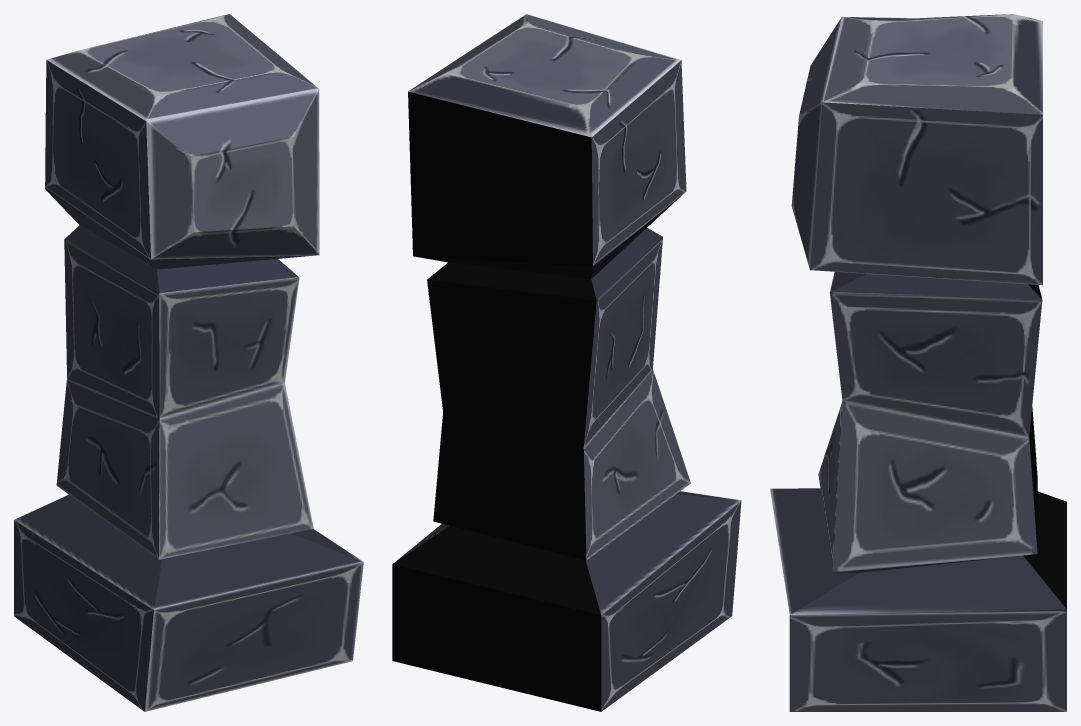
The model's file is pilaar.FBX.
3 views of the same model, side by side, from view 1: azimuth 30°, elevation 25°; view 2: azimuth 150°, elevation 25°; view 3: azimuth 270°, elevation 25° (orthographic). The views are drawn at different scales.
Parts seen in each view (by area): view 1: Box070; view 2: Box070; view 3: Box070.
Boxes of the visible parts, left/top/right/bottom form: Box070: left=14, top=14, right=363, bottom=711; Box070: left=392, top=14, right=741, bottom=711; Box070: left=770, top=14, right=1066, bottom=711.
Bounding box in the file's own units: 229 × 573 × 253.
